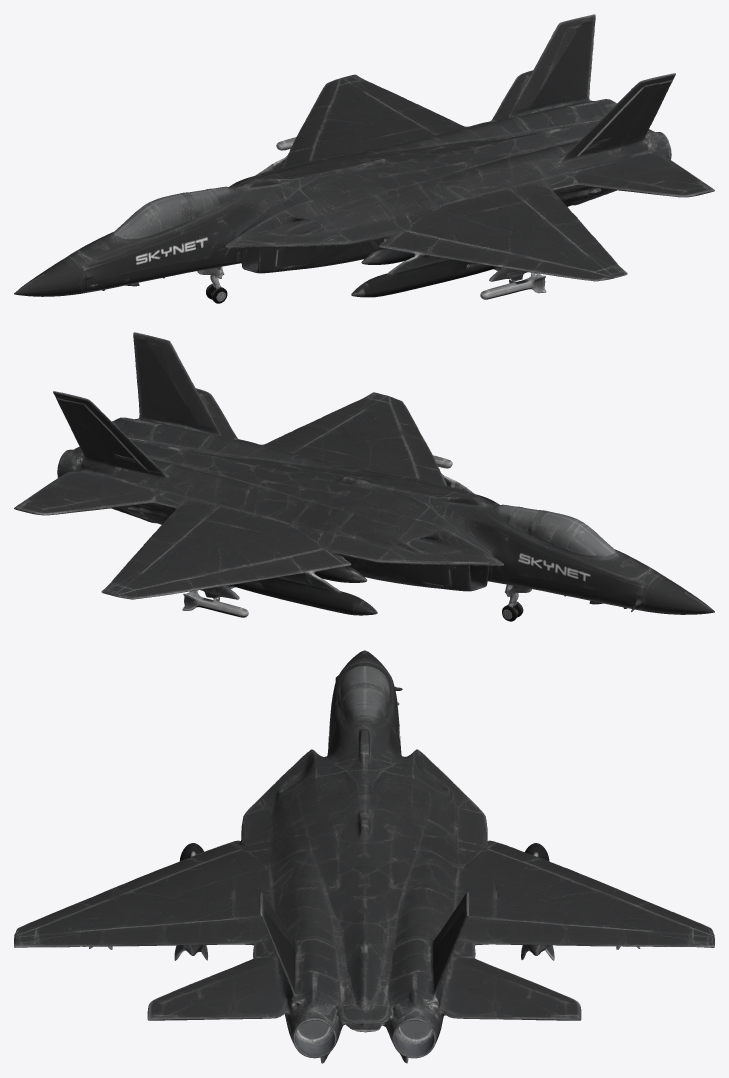
File: military-aircraft.glb
The picture shows the model from 3 angles, top to bottom: view 1: azimuth 30°, elevation 25°; view 2: azimuth 150°, elevation 25°; view 3: azimuth 270°, elevation 25°; orthographic projection. The views are drawn at different scales.
Bounding box in the file's own units: 1.9 × 0.4482 × 1.42.
1 material, 1 textured.
